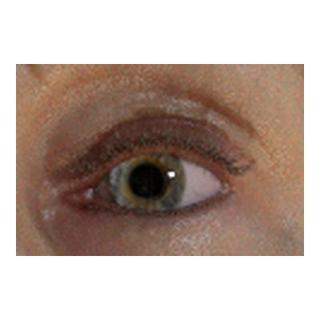pupil: (129, 164, 162, 197)
